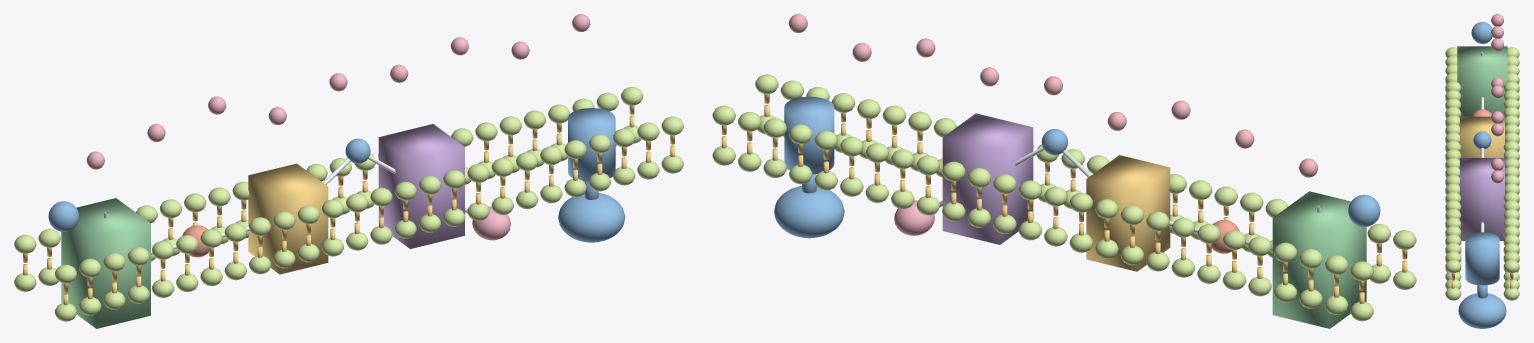
File: light-reactions.glb
The picture shows the model from 3 angles, left to right: view 1: azimuth 30°, elevation 25°; view 2: azimuth 150°, elevation 25°; view 3: azimuth 270°, elevation 25°; orthographic projection. The views are drawn at different scales.
Visible parts, largest first — view 1: Phospholipid bilayer, Photosystem II, Photosystem I, Cytochrome b6f, ATP synthase catalytic head, ATP synthase channel, Protons on high-concentration side, NADP+ reductase, Water donor, Plastocyanin; view 2: Phospholipid bilayer, Photosystem II, Photosystem I, Cytochrome b6f, ATP synthase catalytic head, ATP synthase channel, Protons on high-concentration side, NADP+ reductase, Water donor, Plastocyanin, Electron route; view 3: Phospholipid bilayer, Photosystem I, Photosystem II, ATP synthase channel, Cytochrome b6f, ATP synthase catalytic head, Protons on high-concentration side, Water donor, Plastocyanin, Electron route, ATP synthase stalk, Plastoquinone.
Part boxes in pixels (left/top/right/bottom): Phospholipid bilayer: left=14, top=87, right=683, bottom=321; Photosystem II: left=61, top=198, right=150, bottom=328; Photosystem I: left=378, top=124, right=464, bottom=248; Cytochrome b6f: left=248, top=163, right=328, bottom=274; ATP synthase catalytic head: left=558, top=193, right=625, bottom=242; ATP synthase channel: left=568, top=108, right=615, bottom=181; Protons on high-concentration side: left=86, top=14, right=590, bottom=169; NADP+ reductase: left=472, top=206, right=510, bottom=240; Water donor: left=48, top=201, right=79, bottom=231; Plastocyanin: left=345, top=138, right=370, bottom=163; Phospholipid bilayer: left=712, top=74, right=1416, bottom=321; Photosystem II: left=1272, top=191, right=1366, bottom=328; Photosystem I: left=942, top=113, right=1033, bottom=244; Cytochrome b6f: left=1086, top=155, right=1170, bottom=271; ATP synthase catalytic head: left=774, top=186, right=844, bottom=238; ATP synthase channel: left=784, top=96, right=834, bottom=174; Protons on high-concentration side: left=788, top=14, right=1317, bottom=177; NADP+ reductase: left=894, top=200, right=934, bottom=235; Water donor: left=1348, top=194, right=1380, bottom=226; Plastocyanin: left=1041, top=129, right=1067, bottom=155; Electron route: left=939, top=146, right=1322, bottom=250; Phospholipid bilayer: left=1445, top=47, right=1519, bottom=300; Photosystem I: left=1460, top=158, right=1504, bottom=240; Photosystem II: left=1457, top=46, right=1507, bottom=116; ATP synthase channel: left=1465, top=232, right=1499, bottom=285; Cytochrome b6f: left=1460, top=116, right=1504, bottom=157; ATP synthase catalytic head: left=1458, top=293, right=1506, bottom=328; Protons on high-concentration side: left=1491, top=14, right=1503, bottom=183; Water donor: left=1471, top=22, right=1492, bottom=43; Plastocyanin: left=1473, top=131, right=1491, bottom=149; Electron route: left=1480, top=51, right=1484, bottom=232; ATP synthase stalk: left=1477, top=285, right=1487, bottom=298; Plastoquinone: left=1472, top=109, right=1491, bottom=116.
Bounding box in the file's own units: 10.32 × 3.5 × 1.48.
